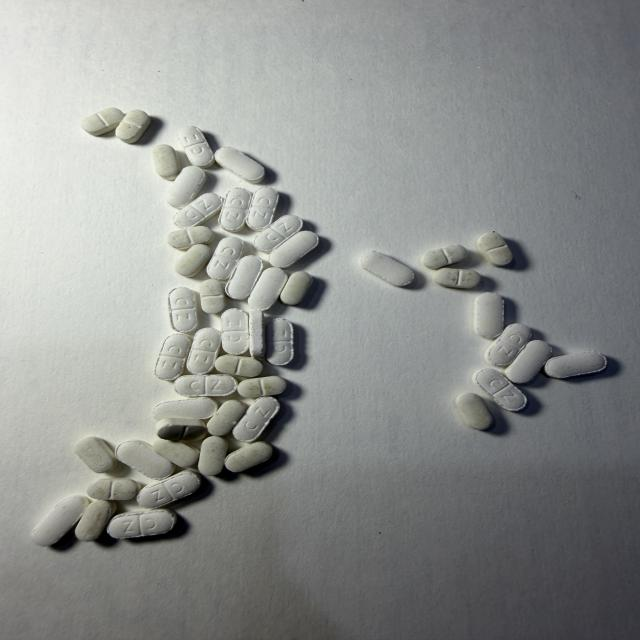pill: (31, 496, 90, 546), (137, 471, 200, 508), (116, 440, 174, 479), (474, 369, 526, 411), (233, 397, 279, 442), (107, 509, 177, 538), (505, 340, 551, 383), (359, 251, 414, 286), (486, 324, 531, 366), (269, 231, 318, 268), (254, 215, 302, 252), (215, 147, 264, 183), (166, 166, 206, 209), (174, 193, 222, 228), (248, 267, 287, 310), (75, 500, 115, 541), (156, 334, 190, 381), (226, 256, 263, 299), (545, 352, 606, 378), (187, 328, 221, 374), (207, 237, 243, 280), (75, 437, 116, 473), (178, 126, 213, 168), (225, 442, 272, 472), (219, 188, 251, 232), (207, 400, 246, 436), (153, 398, 216, 420), (455, 393, 493, 429), (474, 292, 503, 338), (247, 187, 278, 230), (221, 308, 249, 355), (175, 375, 237, 396), (266, 318, 293, 365), (169, 287, 197, 332), (153, 440, 199, 467), (175, 244, 212, 277), (198, 436, 228, 476), (478, 232, 513, 266), (115, 110, 150, 143), (87, 478, 139, 500), (82, 108, 124, 135), (156, 418, 206, 440), (422, 245, 467, 269), (280, 272, 312, 305), (168, 226, 213, 249), (216, 355, 262, 377), (238, 376, 286, 397), (434, 268, 481, 288), (153, 145, 179, 180), (200, 279, 225, 313), (249, 311, 265, 358)
